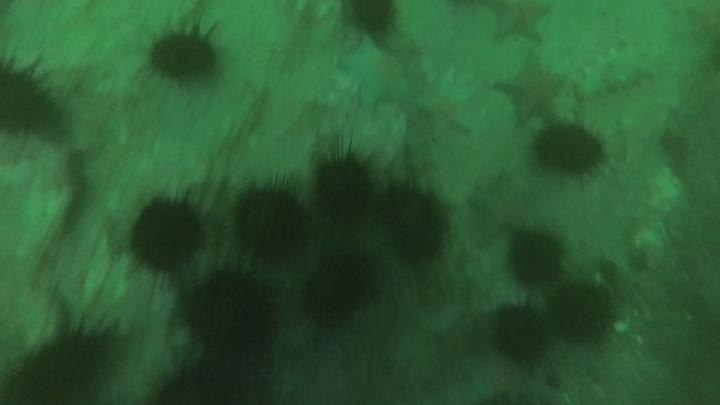echinus: (7, 328, 113, 404), (181, 273, 276, 356), (373, 185, 449, 266), (300, 251, 378, 326), (128, 199, 205, 273), (232, 187, 308, 261), (1, 51, 62, 138), (145, 357, 247, 404), (311, 152, 376, 222), (547, 281, 615, 343), (531, 123, 606, 178), (147, 29, 221, 84), (505, 227, 567, 288), (489, 306, 549, 364), (342, 1, 401, 38), (594, 258, 623, 289)
holothurian: (575, 42, 670, 100)
starfish: (337, 36, 417, 112), (494, 53, 569, 126), (467, 173, 538, 240), (415, 73, 477, 138), (487, 1, 554, 46)
